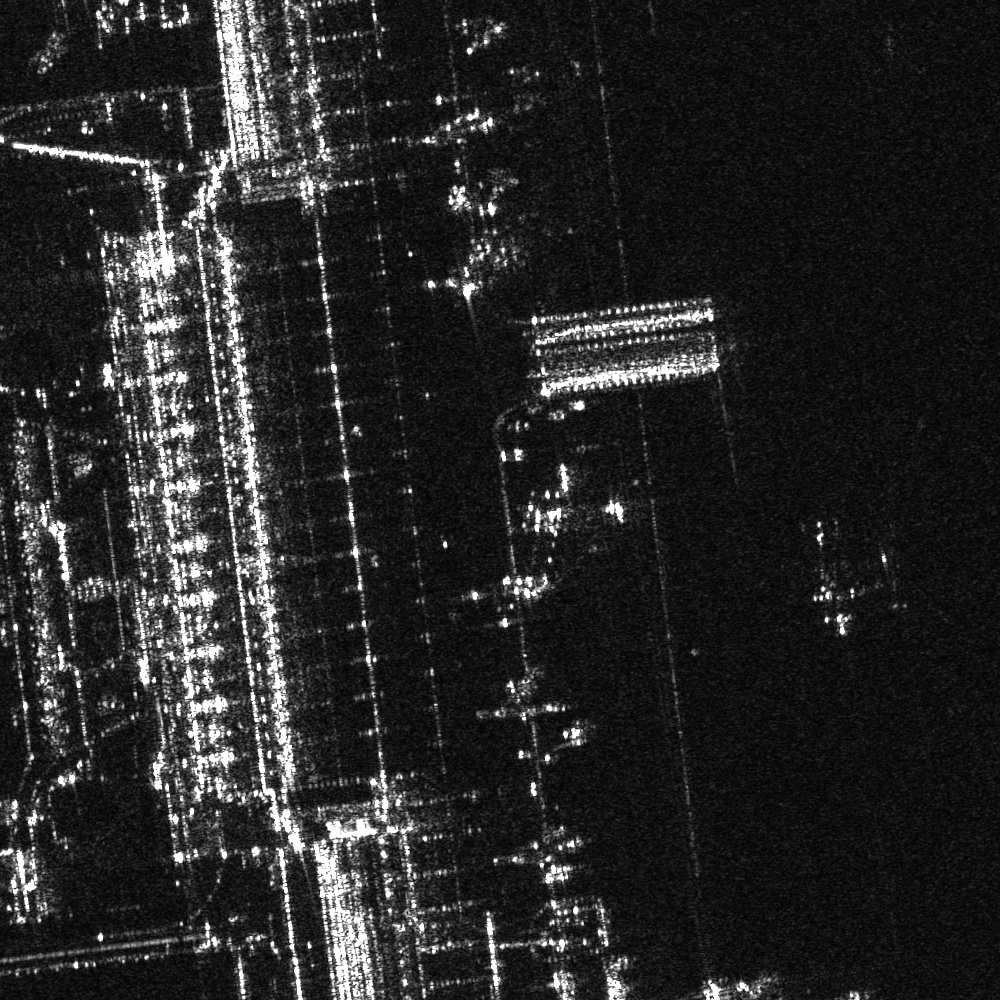Boeing787: (485, 660, 585, 748)
